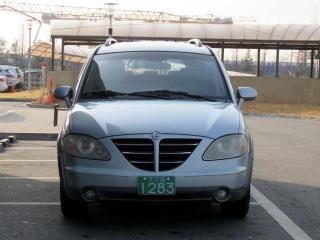1: (140, 182, 146, 194)
2: (147, 182, 157, 195)
3: (165, 182, 175, 194)
7: (147, 176, 153, 182), (154, 176, 160, 182)
8: (157, 182, 165, 194)
모: (160, 176, 167, 183)
